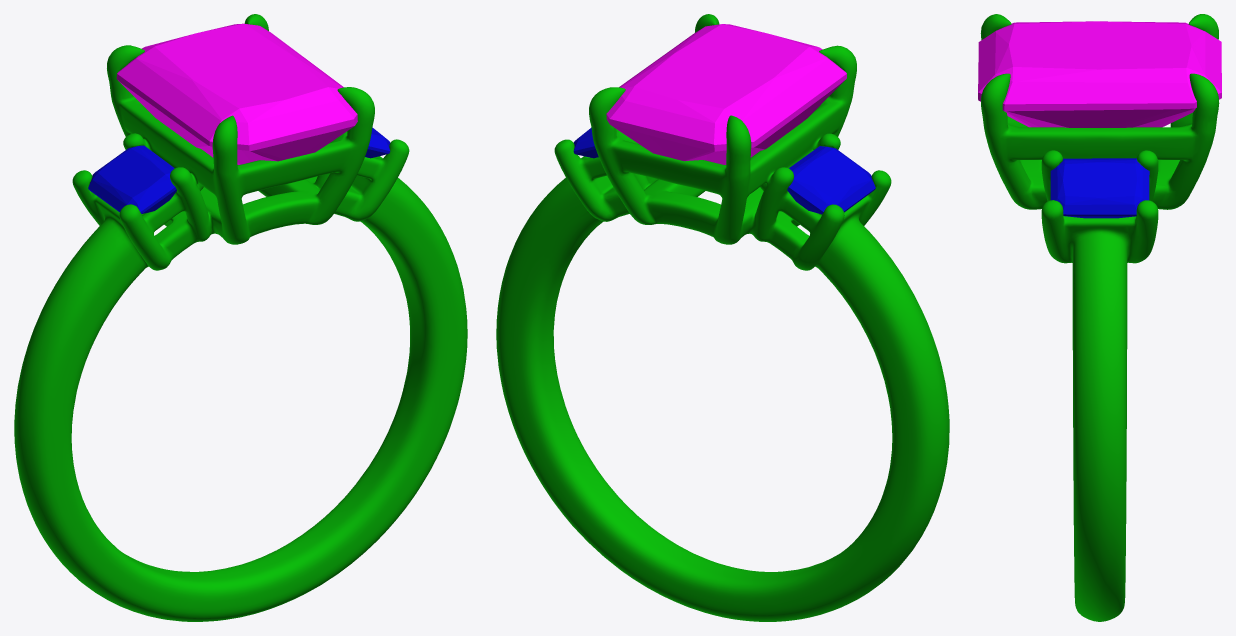
Rendered from BE1D8418_RA_200ct_RENDER.glb.
3 views of the same model, side by side, from view 1: azimuth 30°, elevation 25°; view 2: azimuth 150°, elevation 25°; view 3: azimuth 270°, elevation 25° (orthographic).
Parts seen in each view (by area): view 1: Metal 01, CS_Diamond_Radiant, Diamond_Radiant_side.001; view 2: Metal 01, CS_Diamond_Radiant, Diamond_Radiant_side.001; view 3: Metal 01, CS_Diamond_Radiant, Diamond_Radiant_side.
Boxes of the visible parts, x1,y1,x2,y2 form: Metal 01: (14, 14, 467, 621); CS_Diamond_Radiant: (116, 23, 357, 164); Diamond_Radiant_side.001: (88, 145, 176, 213); Metal 01: (496, 14, 949, 621); CS_Diamond_Radiant: (606, 24, 846, 164); Diamond_Radiant_side.001: (787, 146, 875, 214); Metal 01: (980, 14, 1219, 621); CS_Diamond_Radiant: (978, 21, 1221, 127); Diamond_Radiant_side: (1050, 158, 1149, 218).
Bounding box in the file's own units: 20.83 × 24.47 × 9.79.
